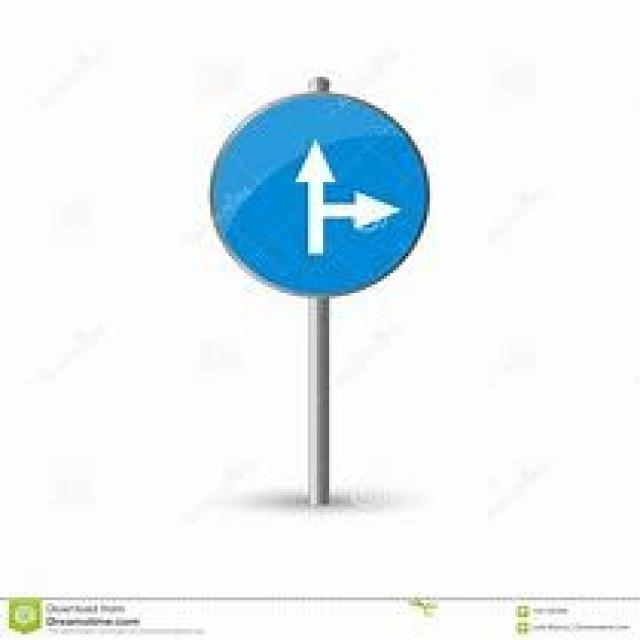COMPULSARY_AHEAD_OR_TURN_RIGHT: (208, 94, 430, 296)
